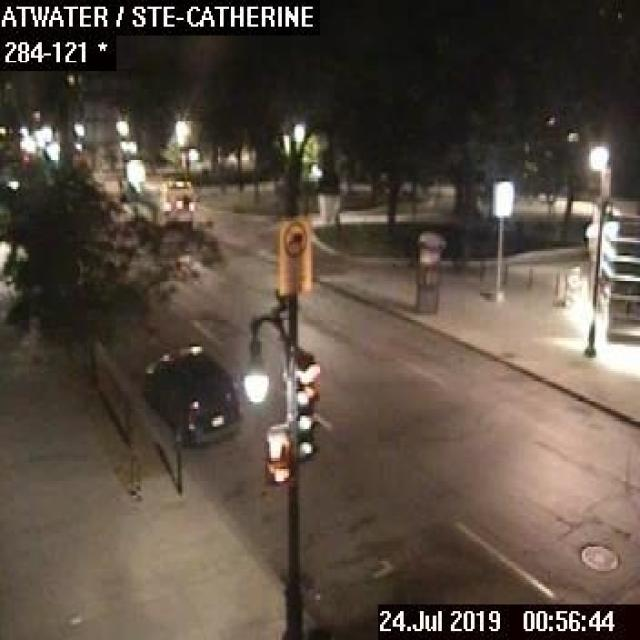bus: (134, 176, 192, 224)
vehicle: (140, 340, 238, 439)
